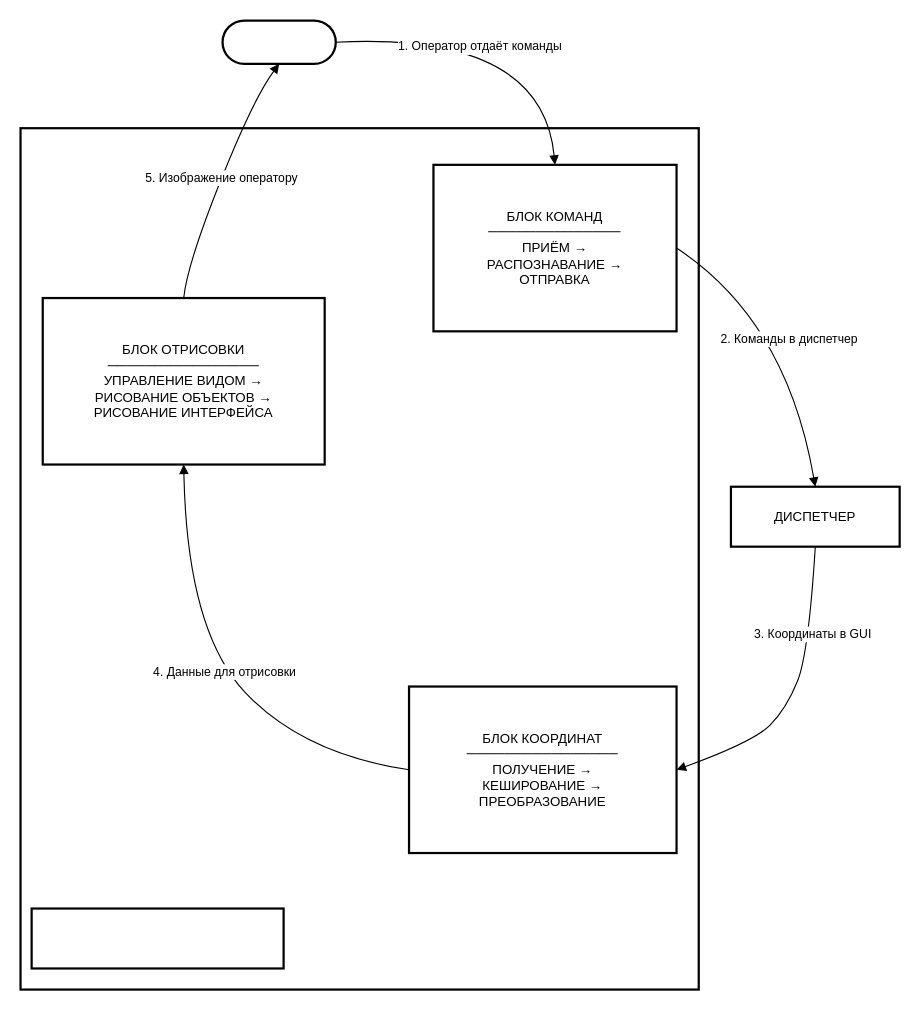
The diagram is 919 pixels wide and 1009 high, and some of its shapes have lost their labels. Here are the shapes that lost their labels. From the top down, the centre of each, then its label:
At pixel 278 41: "ОПЕРАТОР".
At pixel 157 938: "ГРАФИЧЕСКИЙ ИНТЕРФЕЙС".
